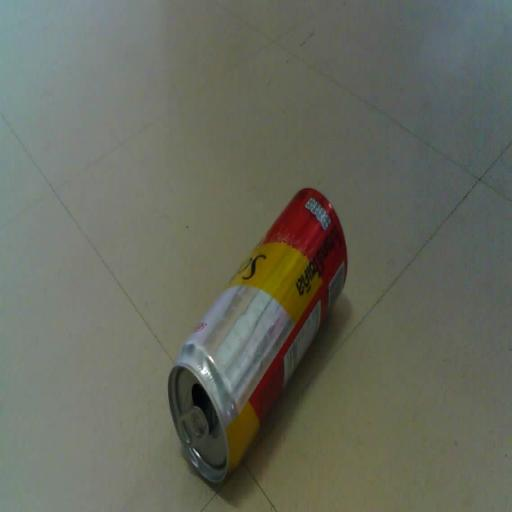canned: (161, 172, 349, 502)
